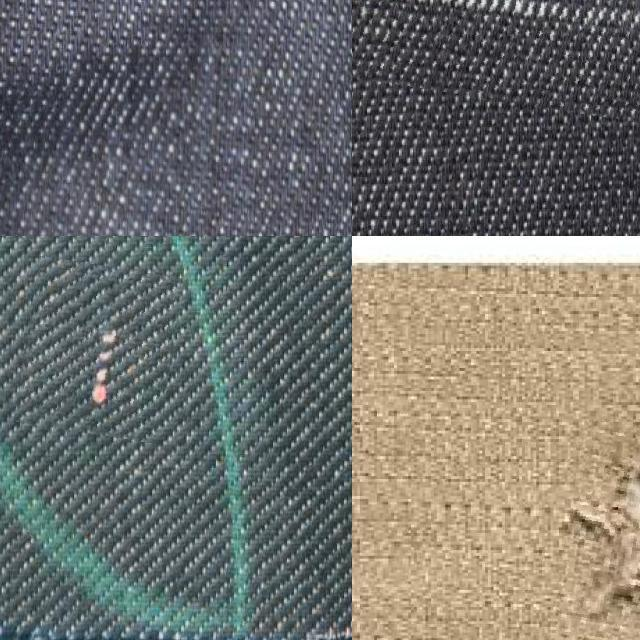other: (558, 424, 640, 640)
stains: (352, 0, 640, 116), (20, 261, 178, 439)
